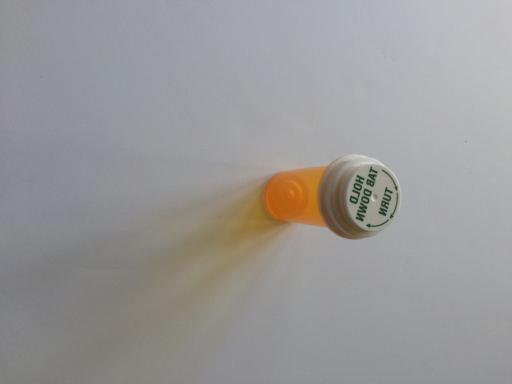plastic: (262, 154, 402, 240)
